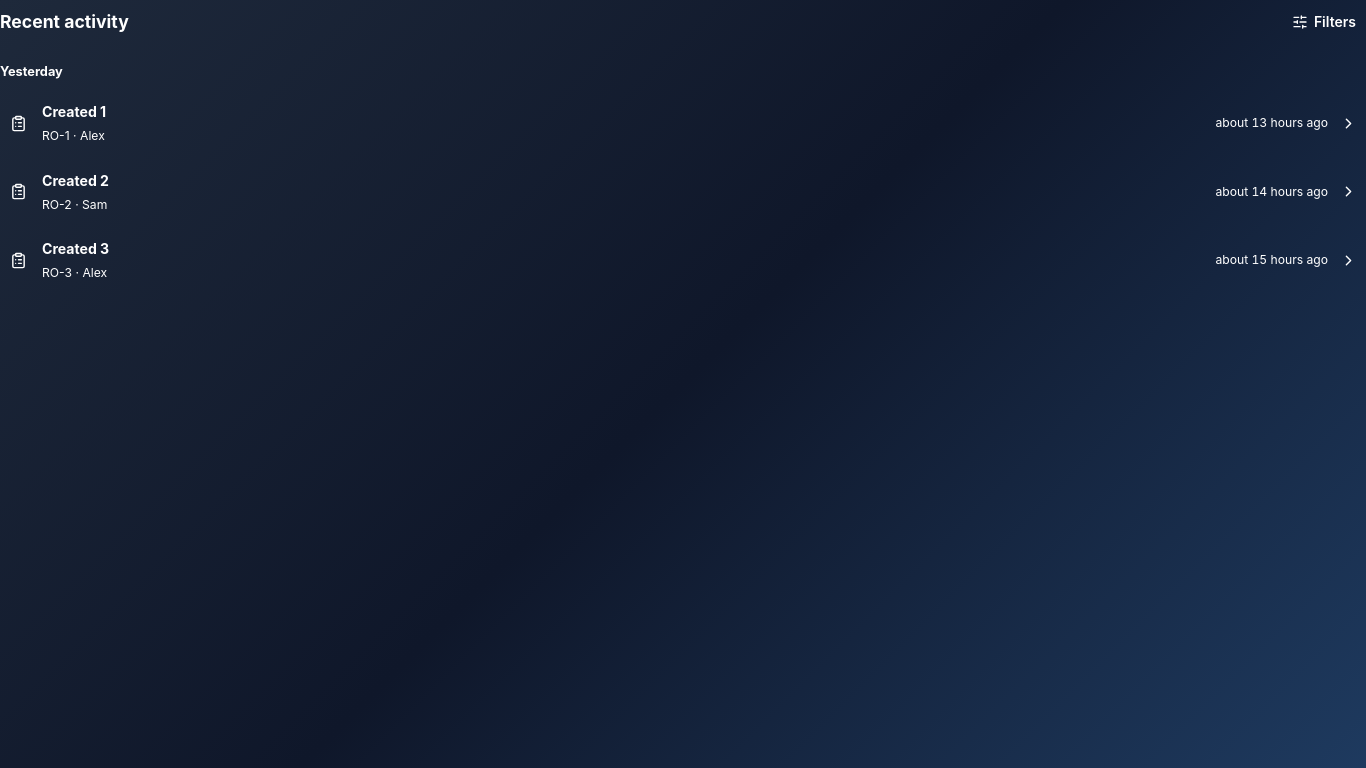
Test case: Shop Work activity consistency › keeps named filters behind one control and supports nested selection, date entry and reset
The image size is (1366, 768).
Expected: the field labelled "From date" is not shown
Click the button with aria-label "Activity filters": (1324, 22) [1282,0,1365,44]
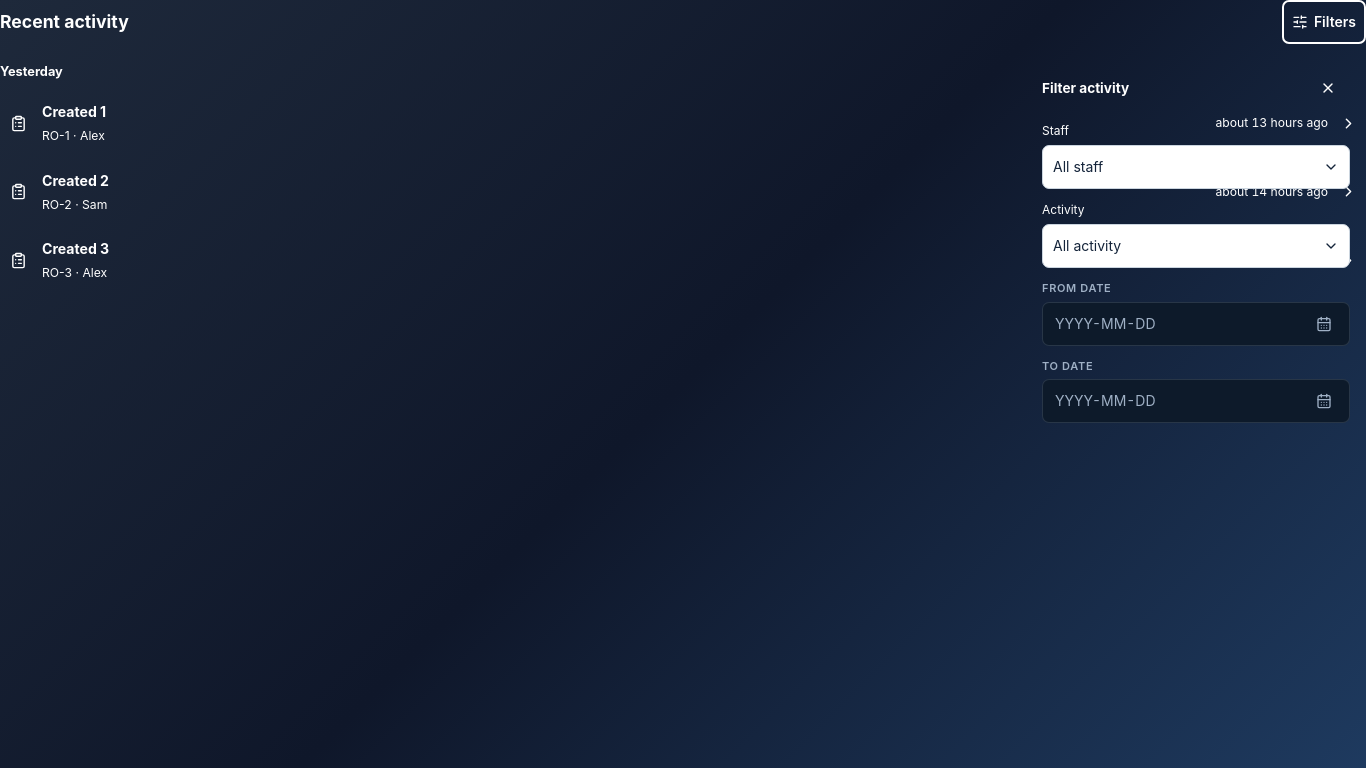
Click the button with aria-label "Activity type": (1087, 246) [1042,224,1350,268]
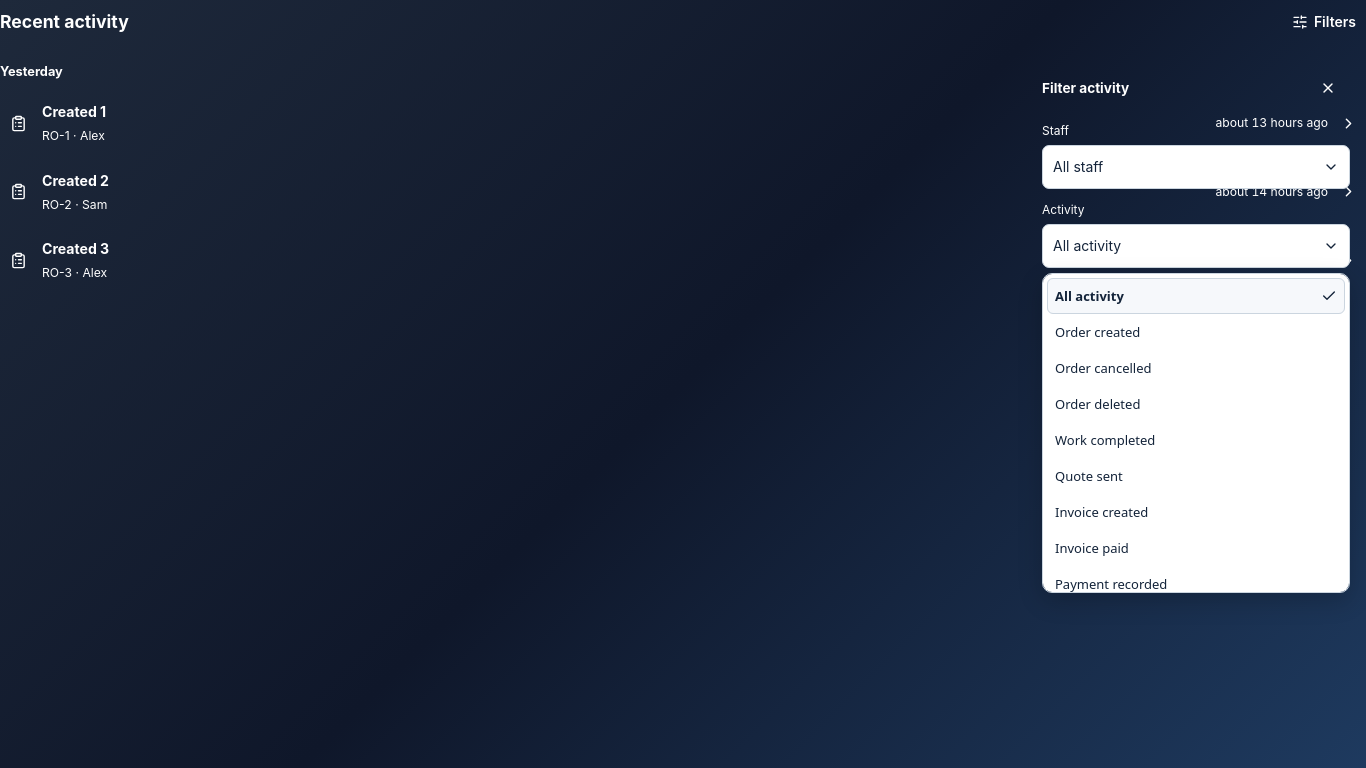
Click the option "Order created": (1098, 332) [1055,323,1140,341]
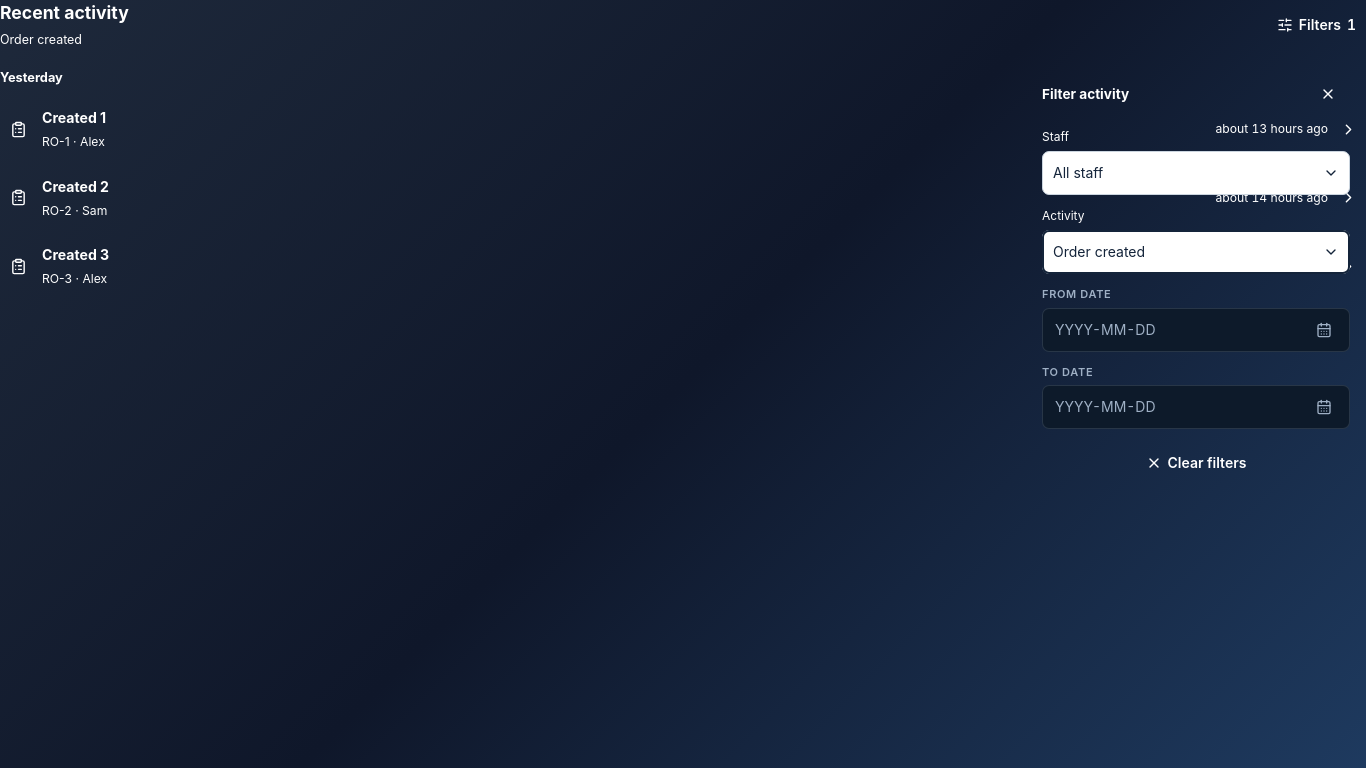
Now the dialog named "Activity filters" is shown, box [1026,58,1365,501]
In the field labelled "From date": (1196, 330) [1042,308,1350,352], type "2026-10-29"
Click the button "Clear filters": (1196, 463) [1042,441,1350,485]
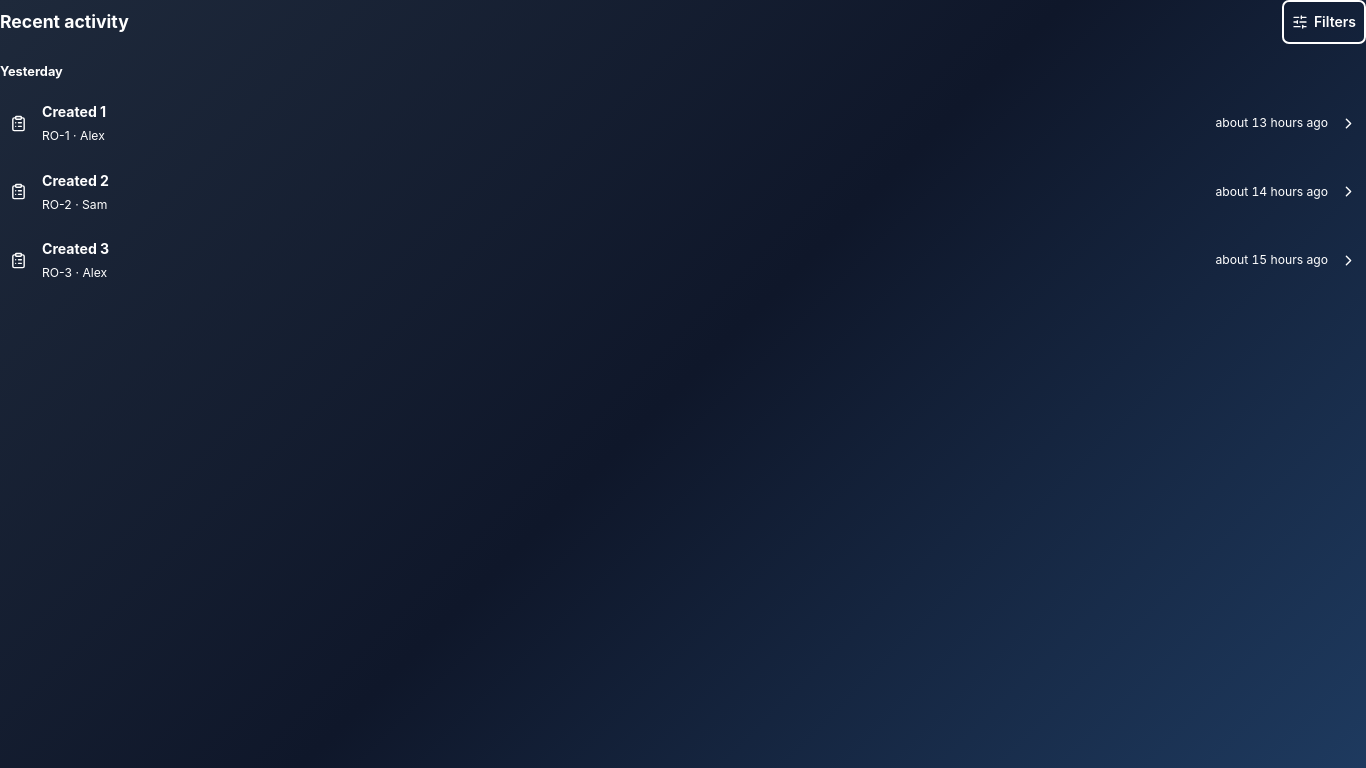
Now the dialog is gone
Click the button with aria-label "Activity filters": (1324, 22) [1282,0,1365,44]
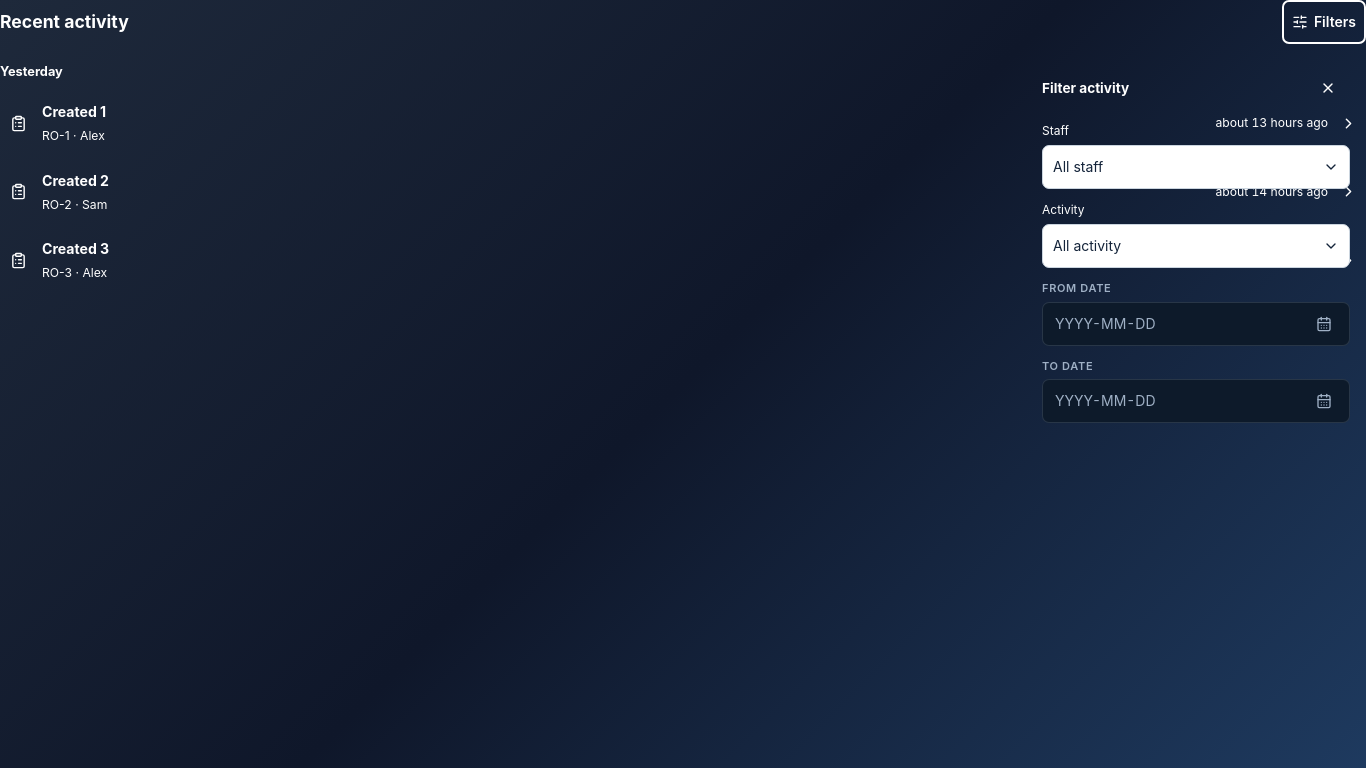
Click the button named "Close activity filters": (1328, 88) [1306,66,1350,110]
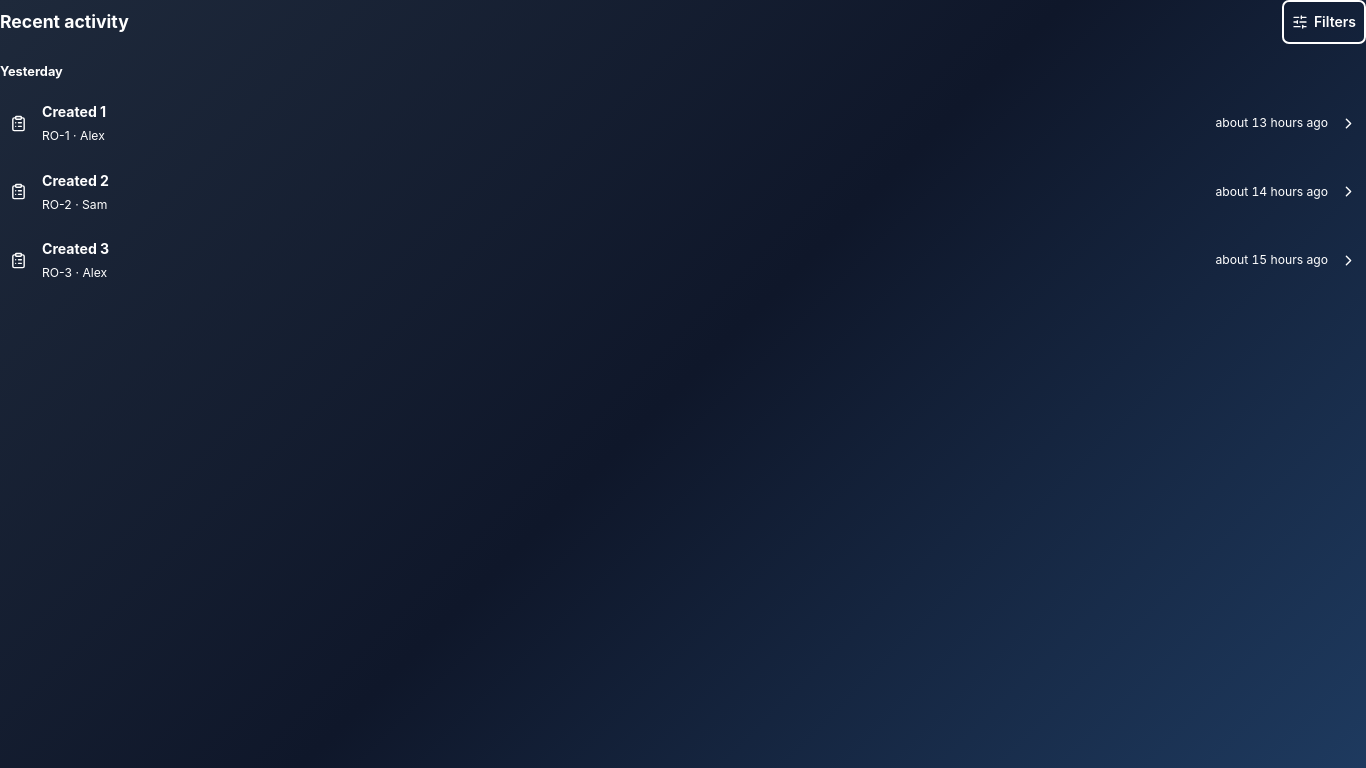
Now the dialog is gone
